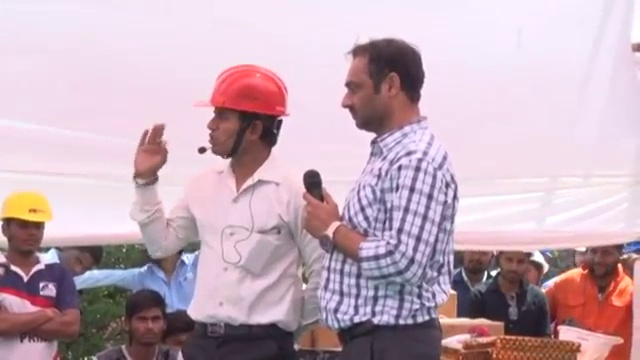helmet: (187, 71, 301, 119), (556, 322, 624, 360), (0, 191, 52, 228), (527, 250, 550, 275)
helmet_off: (343, 37, 430, 139), (122, 292, 172, 349), (57, 247, 100, 282), (497, 248, 534, 287), (588, 243, 625, 278), (463, 246, 491, 281)
helmet_on: (189, 69, 303, 180), (0, 195, 51, 267), (525, 250, 550, 287)
person: (129, 56, 331, 360), (303, 38, 482, 360), (0, 198, 86, 358), (545, 244, 638, 345), (479, 249, 551, 338), (89, 296, 188, 359), (135, 257, 204, 312), (450, 250, 497, 320)
